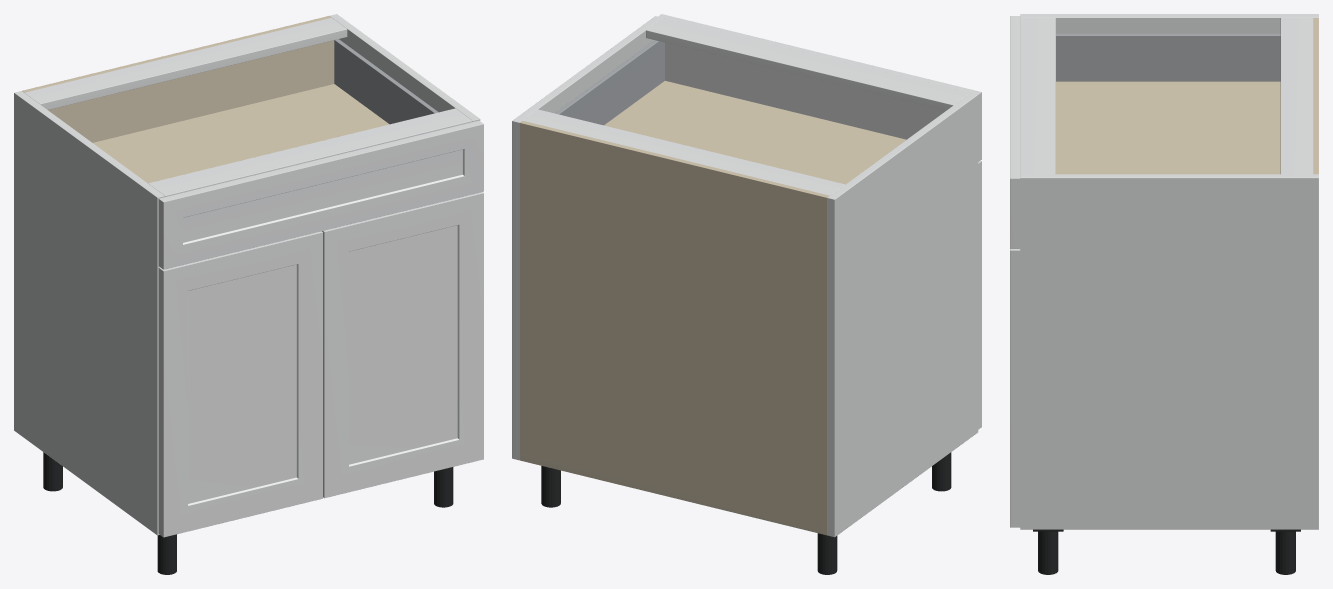
File: PLY-WSS-B30.glb
3 renders of one model, left to right at view 1: azimuth 30°, elevation 25°; view 2: azimuth 150°, elevation 25°; view 3: azimuth 270°, elevation 25°, orthographic. The views are drawn at different scales.
Parts seen in each view (by area): view 1: Carcass left, Shaker door, Shaker door.001, Drawer front, Drawer bottom, Drawer back, Top support rail, Top support rail.001, Metal drawer side.001, Carcass right, Carcass back, Adjustable foot.001 (+2 smaller); view 2: Carcass back, Carcass left, Drawer bottom, Drawer front, Top support rail.001, Carcass right, Top support rail, Metal drawer side.001, Carcass bottom, Shaker door, Adjustable foot, Adjustable foot.002 (+1 smaller); view 3: Carcass right, Drawer bottom, Metal drawer side, Top support rail.001, Top support rail, Carcass left, Shaker door.001, Drawer front, Carcass back, Adjustable foot.003, Adjustable foot.002.
Part boxes in pixels (x1=…): Carcass left: x1=14, y1=91, x2=164, y2=535; Shaker door: x1=158, y1=231, x2=322, y2=537; Shaker door.001: x1=322, y1=192, x2=483, y2=498; Drawer front: x1=158, y1=120, x2=483, y2=269; Drawer bottom: x1=93, y1=84, x2=389, y2=183; Drawer back: x1=48, y1=40, x2=334, y2=142; Top support rail: x1=24, y1=17, x2=347, y2=109; Top support rail.001: x1=148, y1=108, x2=472, y2=196; Metal drawer side.001: x1=334, y1=39, x2=438, y2=124; Carcass right: x1=329, y1=14, x2=480, y2=121; Carcass back: x1=22, y1=16, x2=331, y2=92; Adjustable foot.001: x1=157, y1=534, x2=176, y2=574; Carcass back: x1=519, y1=120, x2=829, y2=535; Carcass left: x1=827, y1=93, x2=978, y2=537; Drawer bottom: x1=604, y1=81, x2=906, y2=184; Drawer front: x1=658, y1=14, x2=981, y2=161; Top support rail.001: x1=646, y1=18, x2=969, y2=110; Carcass right: x1=512, y1=16, x2=662, y2=460; Top support rail: x1=523, y1=109, x2=844, y2=195; Metal drawer side.001: x1=555, y1=40, x2=664, y2=125; Carcass bottom: x1=520, y1=453, x2=826, y2=534; Shaker door: x1=978, y1=160, x2=981, y2=429; Adjustable foot: x1=817, y1=533, x2=837, y2=574; Adjustable foot.002: x1=541, y1=466, x2=560, y2=507; Carcass right: x1=1020, y1=174, x2=1318, y2=529; Drawer bottom: x1=1056, y1=81, x2=1280, y2=174; Metal drawer side: x1=1056, y1=33, x2=1280, y2=81; Top support rail.001: x1=1020, y1=18, x2=1055, y2=174; Top support rail: x1=1280, y1=18, x2=1313, y2=174; Carcass left: x1=1020, y1=14, x2=1318, y2=33; Shaker door.001: x1=1010, y1=249, x2=1020, y2=527; Drawer front: x1=1010, y1=16, x2=1020, y2=248; Carcass back: x1=1313, y1=18, x2=1318, y2=174; Adjustable foot.003: x1=1038, y1=531, x2=1058, y2=574; Adjustable foot.002: x1=1275, y1=531, x2=1295, y2=574.
Size of the model in its own units: 0.762 by 0.8763 by 0.6064.
